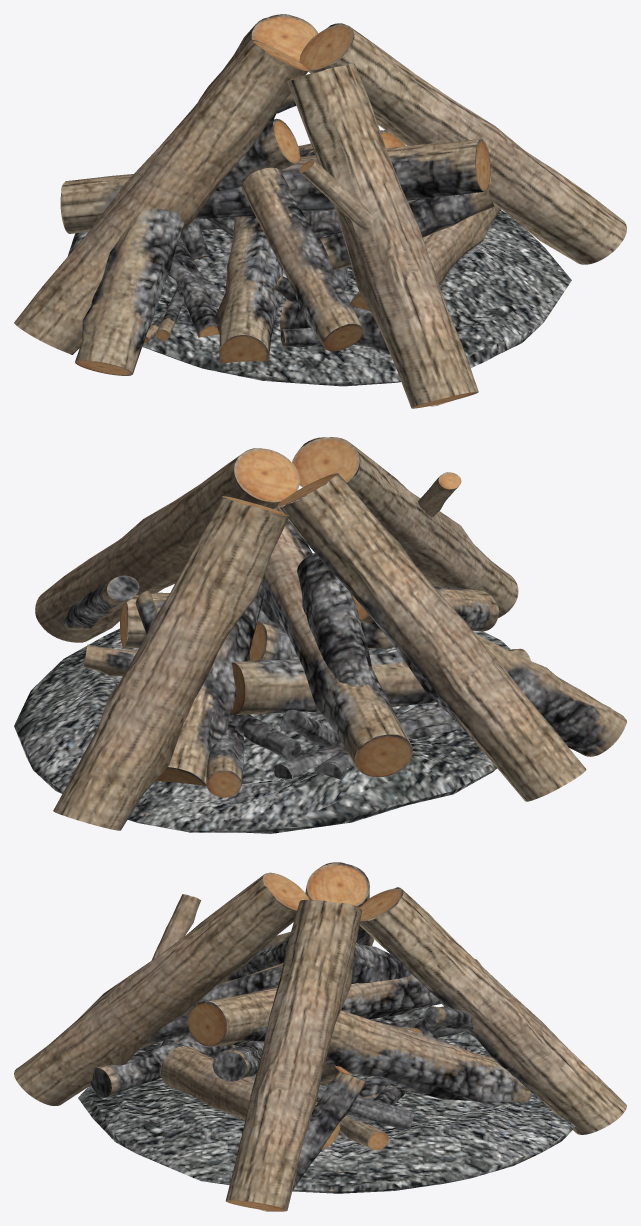
The model's file is campfire_logs.glb.
3 renders of one model, top to bottom at view 1: azimuth 30°, elevation 25°; view 2: azimuth 150°, elevation 25°; view 3: azimuth 270°, elevation 25°, orthographic. The views are drawn at different scales.
Visible parts, largest first — view 1: CampFireWood; view 2: CampFireWood; view 3: CampFireWood.
Part boxes in pixels (bbox=[...]): CampFireWood: bbox=[14, 14, 626, 408]; CampFireWood: bbox=[14, 437, 626, 833]; CampFireWood: bbox=[14, 862, 626, 1211].
Size of the model in its own units: 149 by 69.52 by 158.
Materials: 1 (1 with a texture image).
